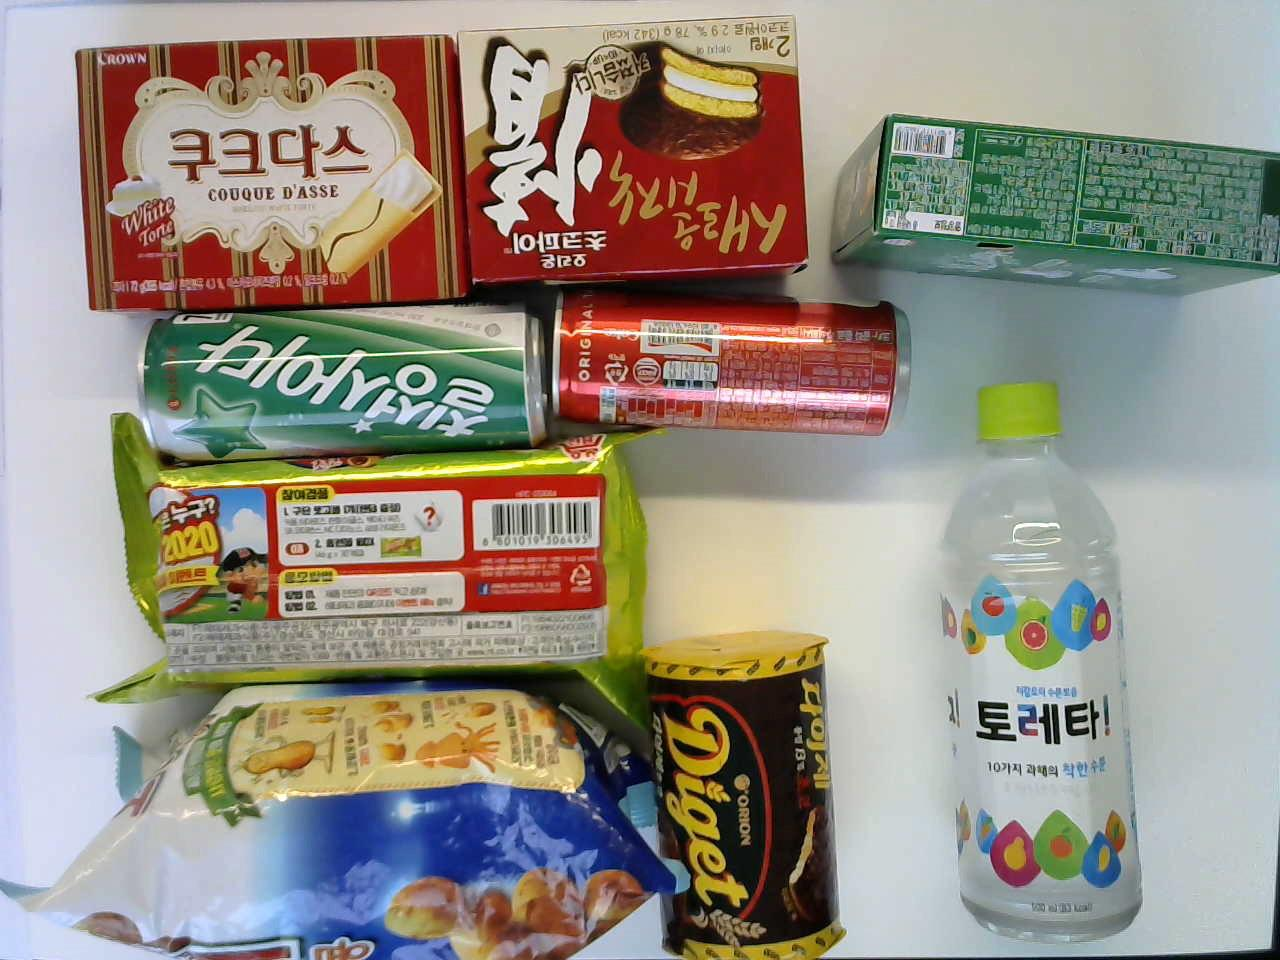chocopie: (471, 15, 808, 281)
cidar: (139, 297, 548, 458)
coke: (547, 278, 920, 436)
couque_coffee: (824, 113, 1280, 291)
couque_white: (72, 42, 456, 297)
diget_choco: (642, 631, 831, 954)
homerunball: (94, 427, 639, 705)
squid_peanut: (119, 717, 685, 957)
toreta: (932, 379, 1142, 946)
